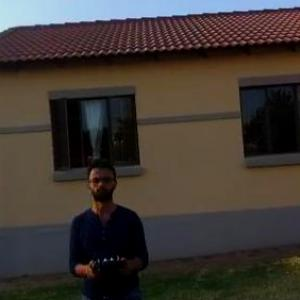follow: (64, 153, 156, 299)
